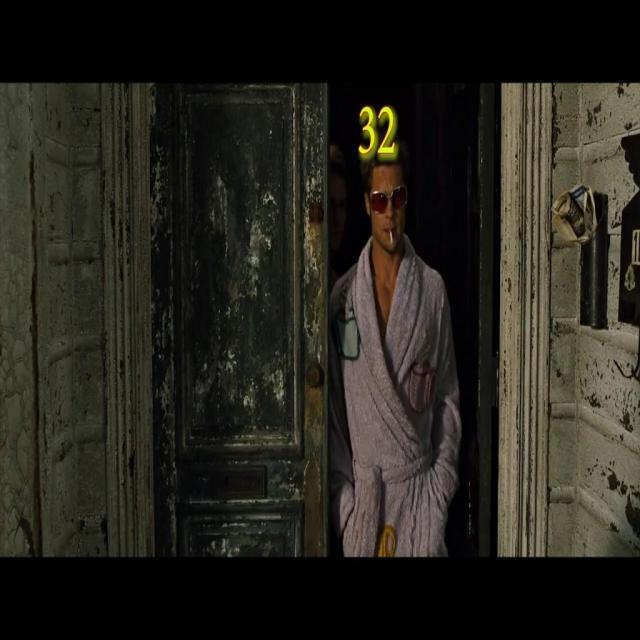smoking: (389, 229, 396, 244)
